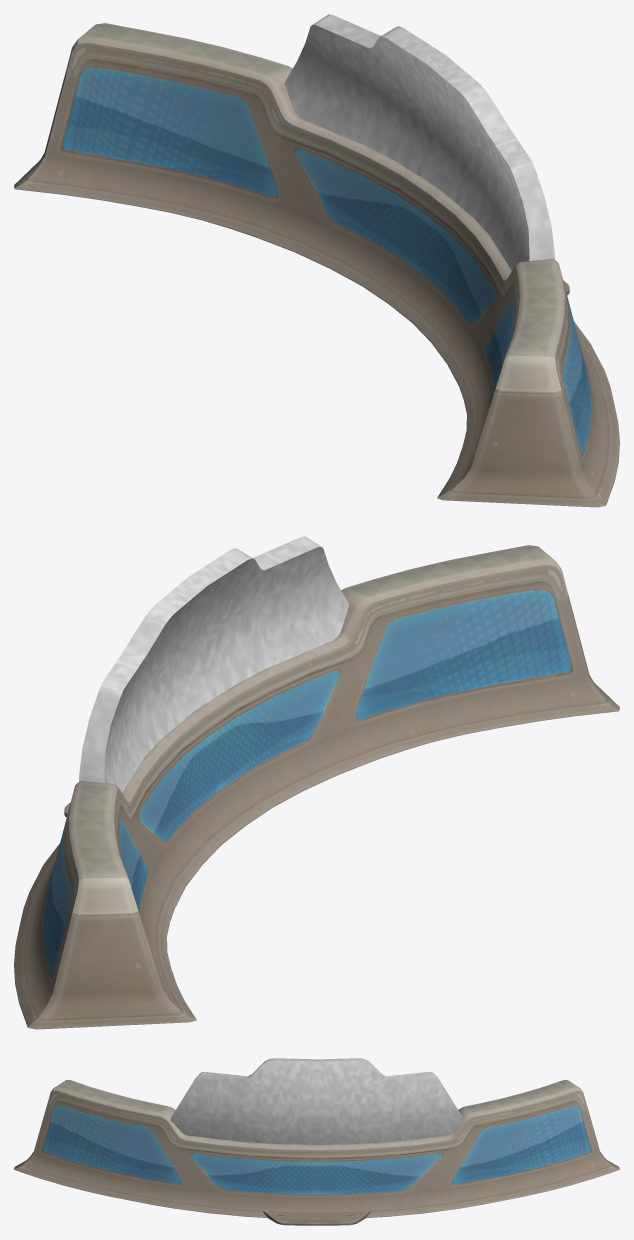
Rendered from pref_sm_beach_techobstacle08_lv3.fbx.
3 views of the same model, one above another, from view 1: azimuth 30°, elevation 25°; view 2: azimuth 150°, elevation 25°; view 3: azimuth 270°, elevation 25° (orthographic). The views are drawn at different scales.
Visible parts, largest first — view 1: sm_beach_techobstacle08a_lv3, sm_beach_techobstacle08b_lv3; view 2: sm_beach_techobstacle08a_lv3, sm_beach_techobstacle08b_lv3; view 3: sm_beach_techobstacle08a_lv3, sm_beach_techobstacle08b_lv3.
Boxes of the visible parts, x1=… form: sm_beach_techobstacle08a_lv3: x1=14, y1=23, x2=619, y2=507; sm_beach_techobstacle08b_lv3: x1=284, y1=14, x2=554, y2=270; sm_beach_techobstacle08a_lv3: x1=14, y1=545, x2=619, y2=1029; sm_beach_techobstacle08b_lv3: x1=79, y1=536, x2=349, y2=792; sm_beach_techobstacle08a_lv3: x1=14, y1=1080, x2=619, y2=1225; sm_beach_techobstacle08b_lv3: x1=170, y1=1058, x2=463, y2=1144.
Size of the model in its own units: 3.9 by 2.77 by 11.14.
